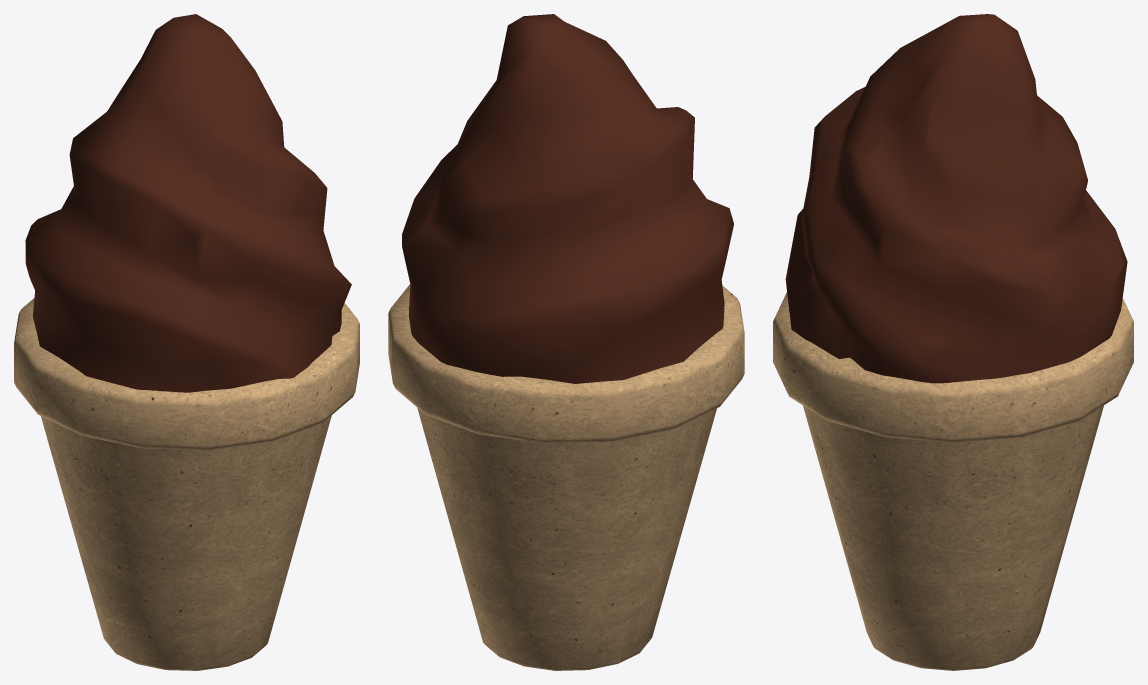
Rendered from ice_cream_chocolate.glb.
3 views of the same model, side by side, from view 1: azimuth 30°, elevation 25°; view 2: azimuth 150°, elevation 25°; view 3: azimuth 270°, elevation 25° (orthographic). The views are drawn at different scales.
Parts seen in each view (by area): view 1: Cube, Circle; view 2: Cube, Circle; view 3: Cube, Circle.
Part boxes in pixels (box(x1,y1,x2,y2)): Cube: box(25, 14, 351, 392); Circle: box(14, 298, 359, 670); Cube: box(402, 14, 733, 383); Circle: box(388, 284, 744, 670); Cube: box(785, 14, 1127, 383); Circle: box(773, 292, 1133, 670).
Bounding box in the file's own units: 2 × 3.83 × 2.
1 material, 1 textured.
